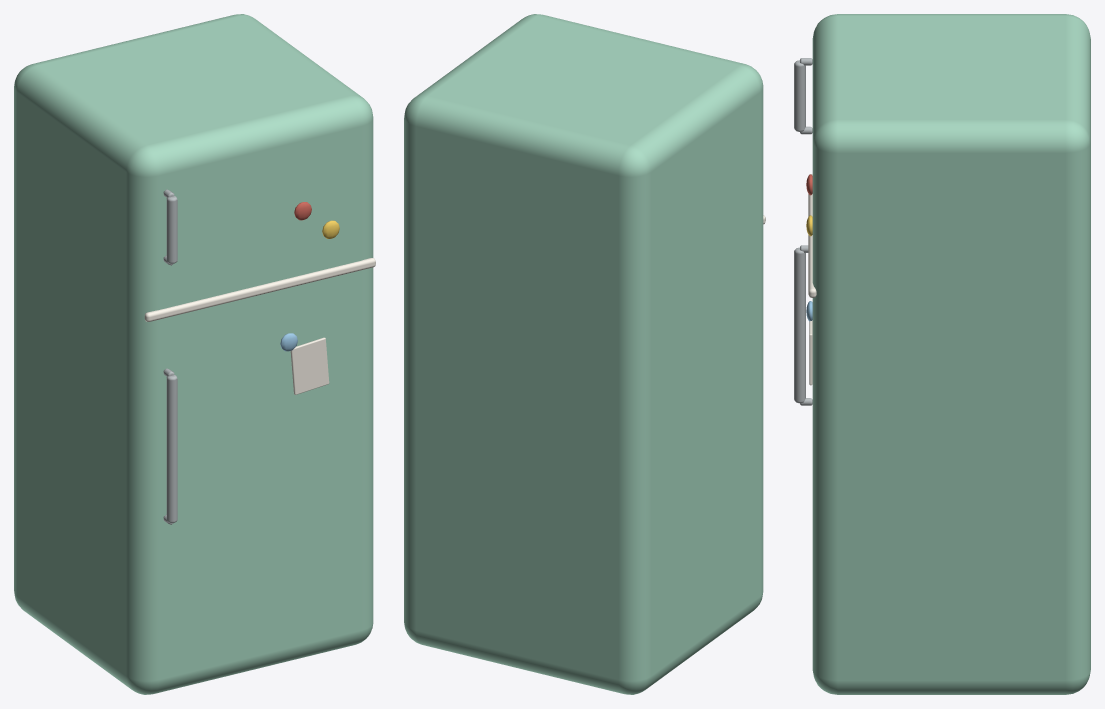
Rendered from kitchen_fridge.glb.
3 renders of one model, left to right at view 1: azimuth 30°, elevation 25°; view 2: azimuth 150°, elevation 25°; view 3: azimuth 270°, elevation 25°, orthographic. The views are drawn at different scales.
Visible parts, largest first — view 1: kitchen_fridge_mesh; view 2: kitchen_fridge_mesh; view 3: kitchen_fridge_mesh.
Part boxes in pixels (left/top/right/bottom): kitchen_fridge_mesh: left=14, top=14, right=375, bottom=694; kitchen_fridge_mesh: left=404, top=14, right=765, bottom=694; kitchen_fridge_mesh: left=794, top=14, right=1090, bottom=694.
Size of the model in its own units: 0.7 by 1.5 by 0.704.
